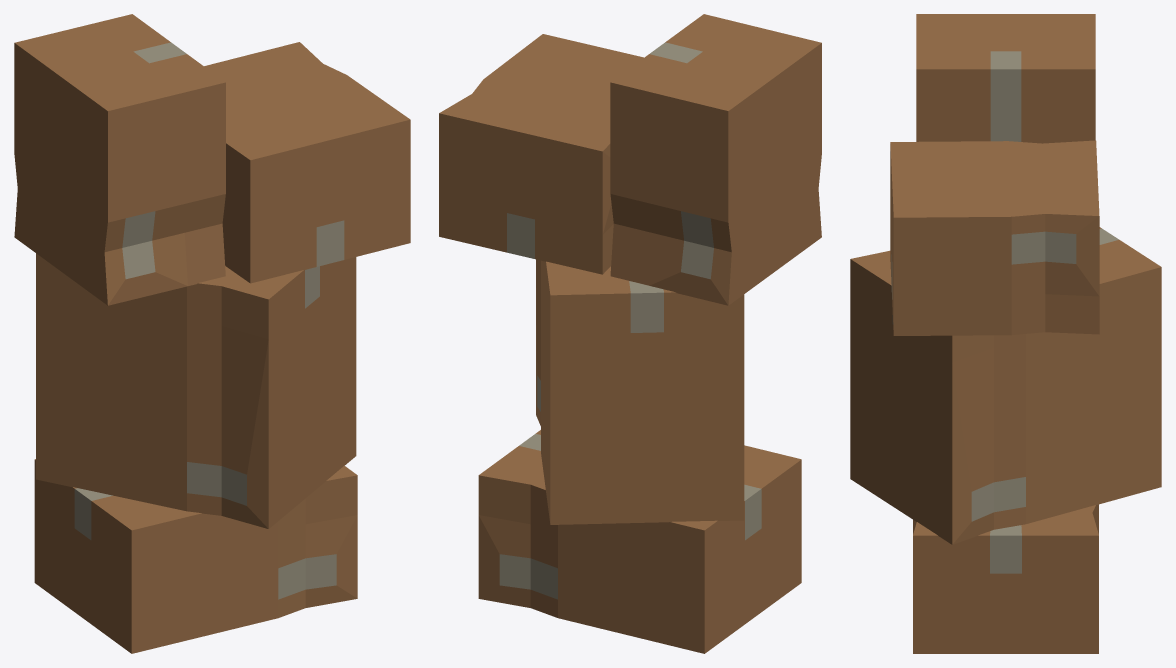
The model's file is boxes3.glb.
3 views of the same model, side by side, from view 1: azimuth 30°, elevation 25°; view 2: azimuth 150°, elevation 25°; view 3: azimuth 270°, elevation 25° (orthographic). The views are drawn at different scales.
Visible parts, largest first — view 1: CardboardBoxes_3; view 2: CardboardBoxes_3; view 3: CardboardBoxes_3.
Boxes of the visible parts, x1,y1,x2,y2 form: CardboardBoxes_3: (14, 14, 410, 653); CardboardBoxes_3: (439, 14, 821, 653); CardboardBoxes_3: (850, 14, 1161, 653).
Bounding box in the file's own units: 1.26 × 2.25 × 1.21.
